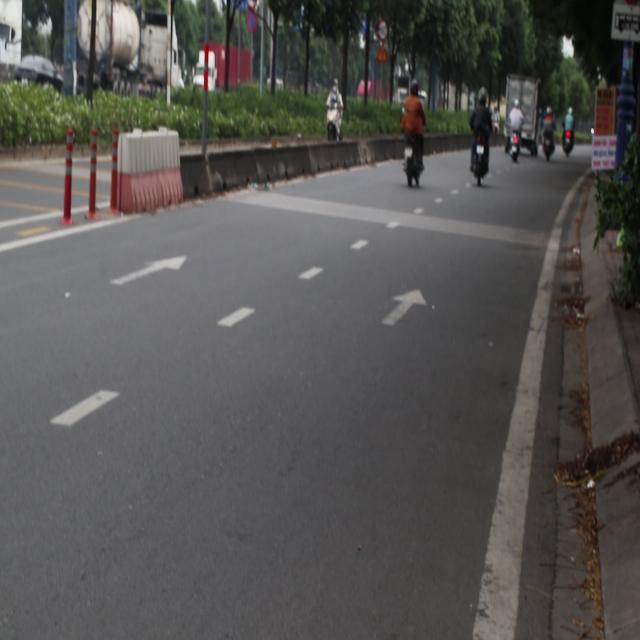car: (9, 56, 60, 87)
motorbike: (467, 121, 492, 180), (401, 138, 426, 195), (321, 102, 348, 142), (542, 114, 562, 168), (507, 114, 526, 158), (559, 120, 576, 156)
truck: (70, 14, 189, 116), (194, 32, 253, 102), (501, 66, 536, 166)
